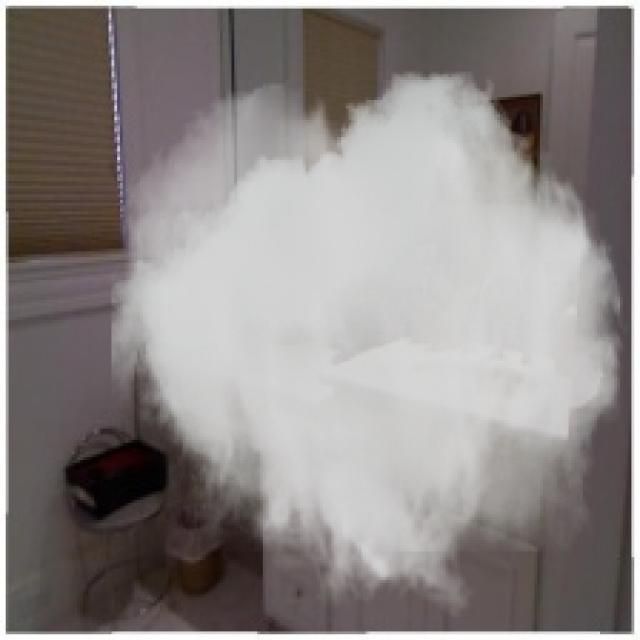smoke: (111, 71, 628, 620)
